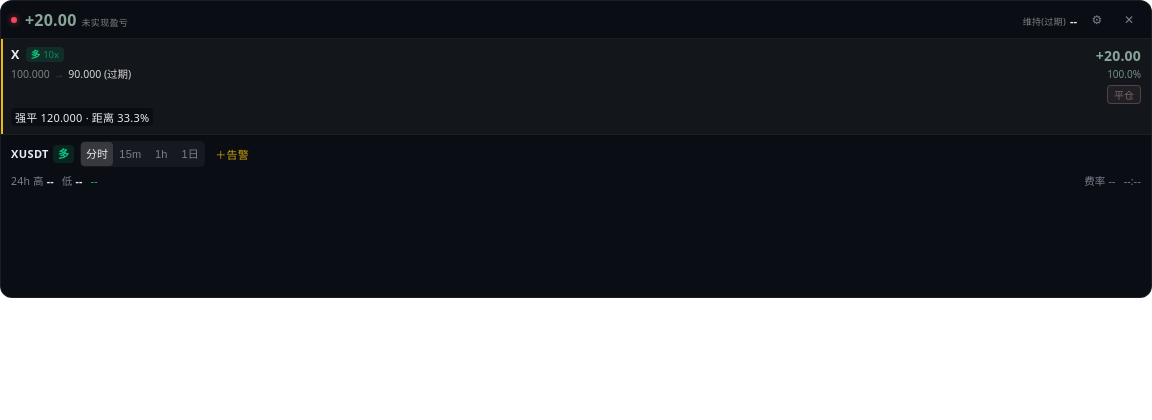
Test: 实盘平仓按钮 › 发单失败保留面板并显示后端分类错误
What coordinates should you click on to do the following:
click the button "平仓"
I would click on:
 (1124, 94)
Its box is [1107, 85, 1141, 104].
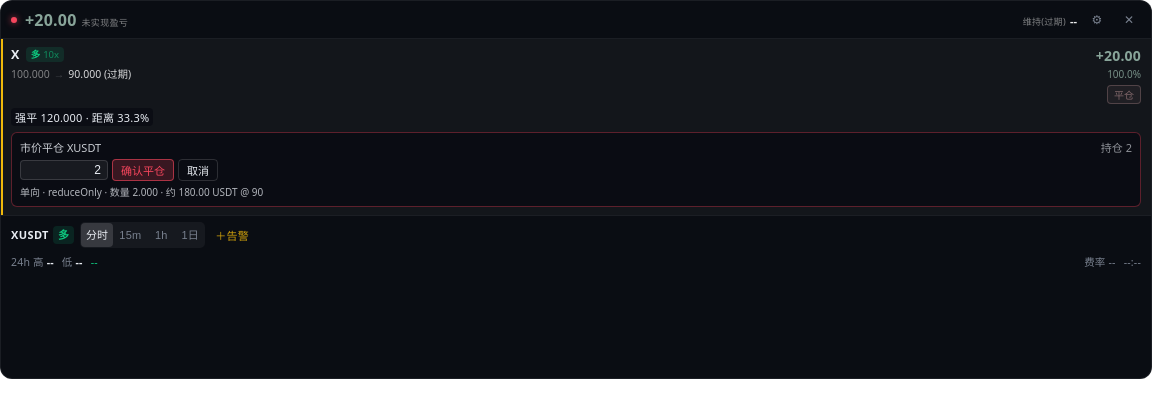
What coordinates should you click on to do the following:
click the button "确认平仓"
I would click on:
 (143, 170)
Its box is [112, 159, 174, 181].
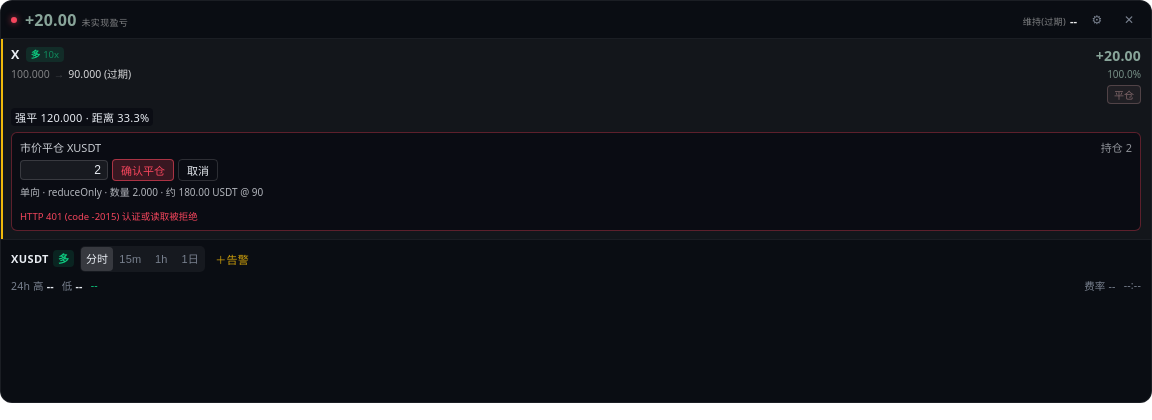
expect the element named "平仓 XUSDT" is shown: met, box [11, 132, 1141, 231]
expect the button "确认平仓" is enabled: met, box [112, 159, 174, 181]
expect the message "HTTP 401 (code -2015) 认证或读取被拒绝" is shown: met, box [20, 210, 198, 223]
